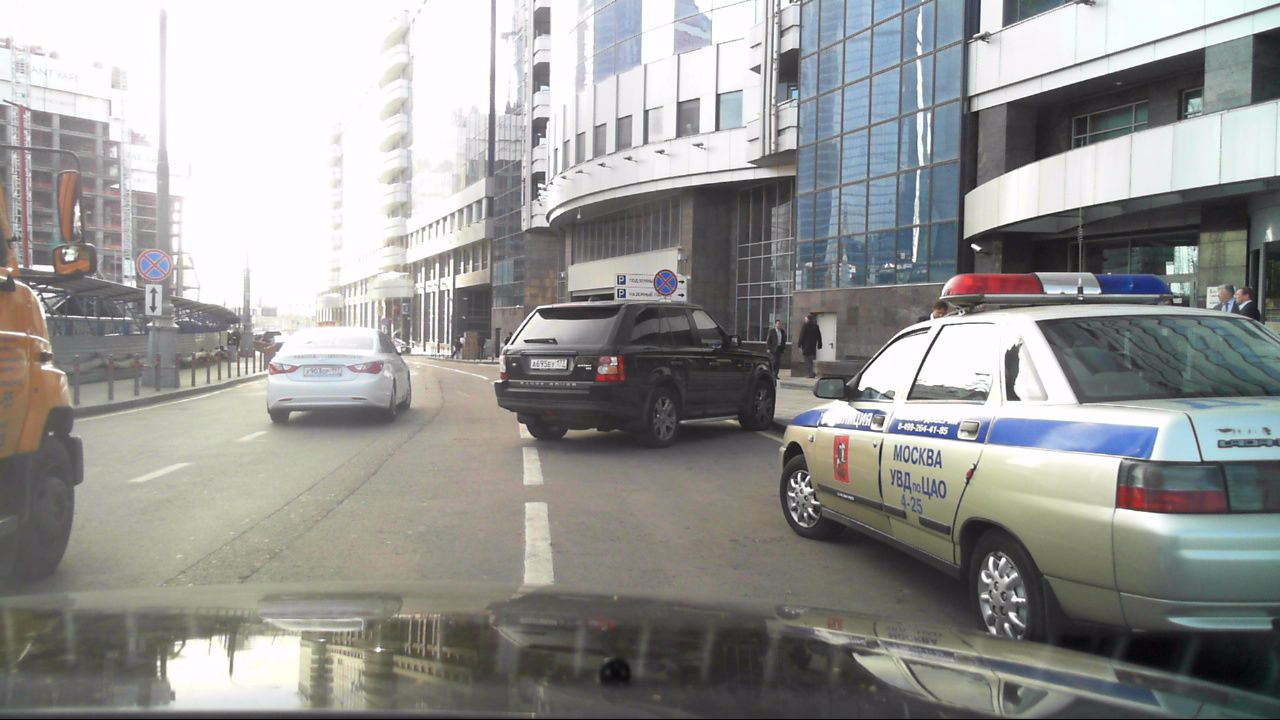No Parking: (653, 266, 679, 296)
